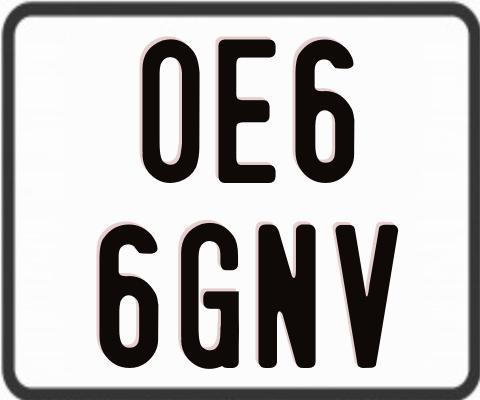0: (139, 38, 199, 182)
6: (293, 39, 357, 188), (98, 224, 158, 372)
E: (218, 36, 282, 186)
G: (179, 220, 238, 369)
N: (257, 223, 318, 373)
V: (332, 223, 396, 367)
